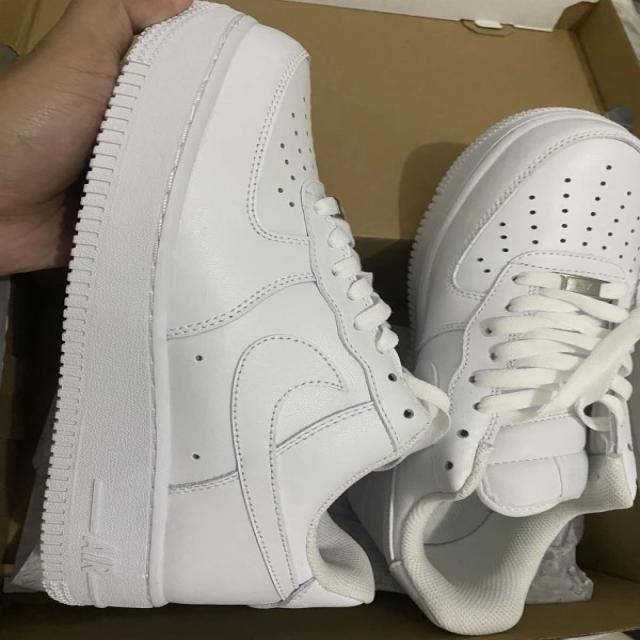nike original air force: (41, 11, 430, 608), (380, 104, 640, 636)
